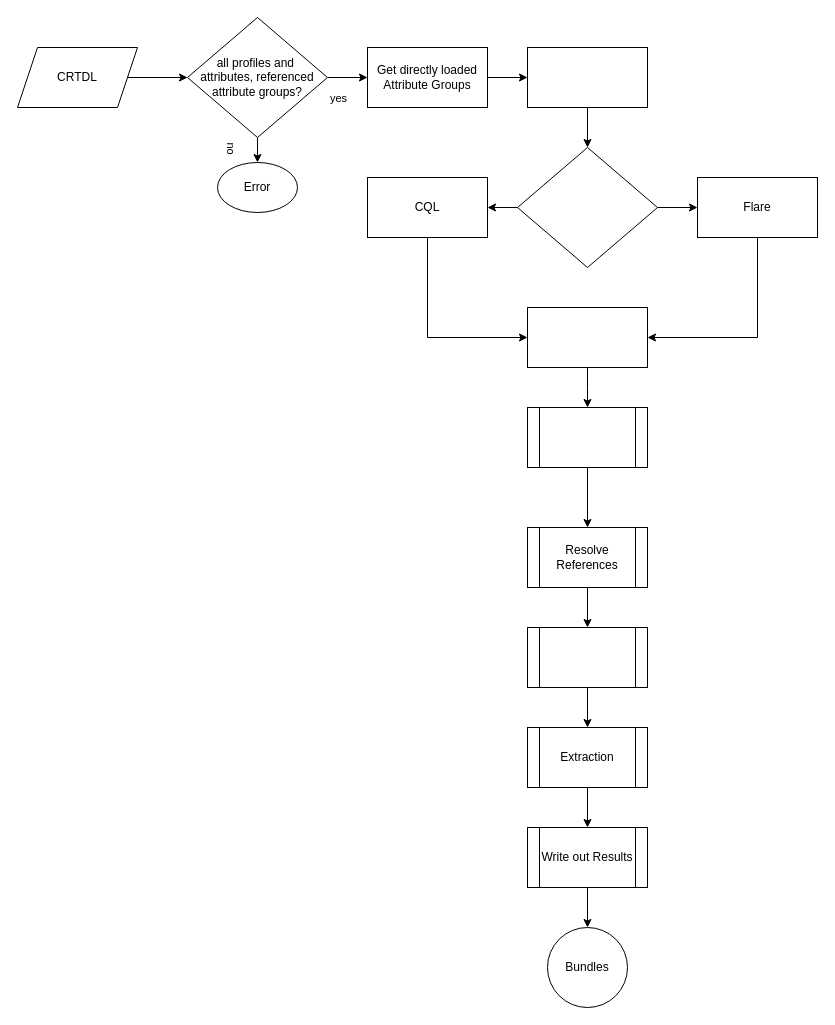
Some shapes in this 835 by 1025 pixel diagram are drawn without their labels. Here are the shapes that lost their labels. From the top down, the centre of each, then its label:
At (x=587, y=77): "Execute Cohort".
At (x=587, y=207): "Which method?".
At (x=587, y=337): "Fetch Patients".
At (x=587, y=437): "Fetch and assign Resources for directly loaded Attribute Groups".
At (x=587, y=657): "Cascading Delete".
